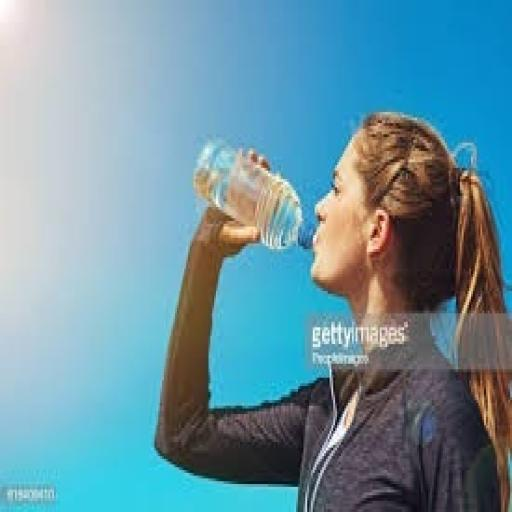drinking: (192, 134, 314, 252)
